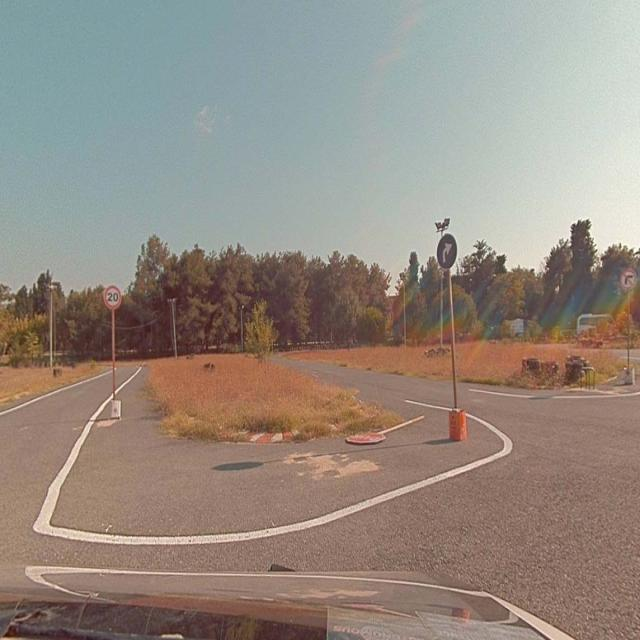20: (105, 286, 120, 308)
sag: (437, 234, 456, 266)
sagadonulmez: (621, 269, 636, 290)
